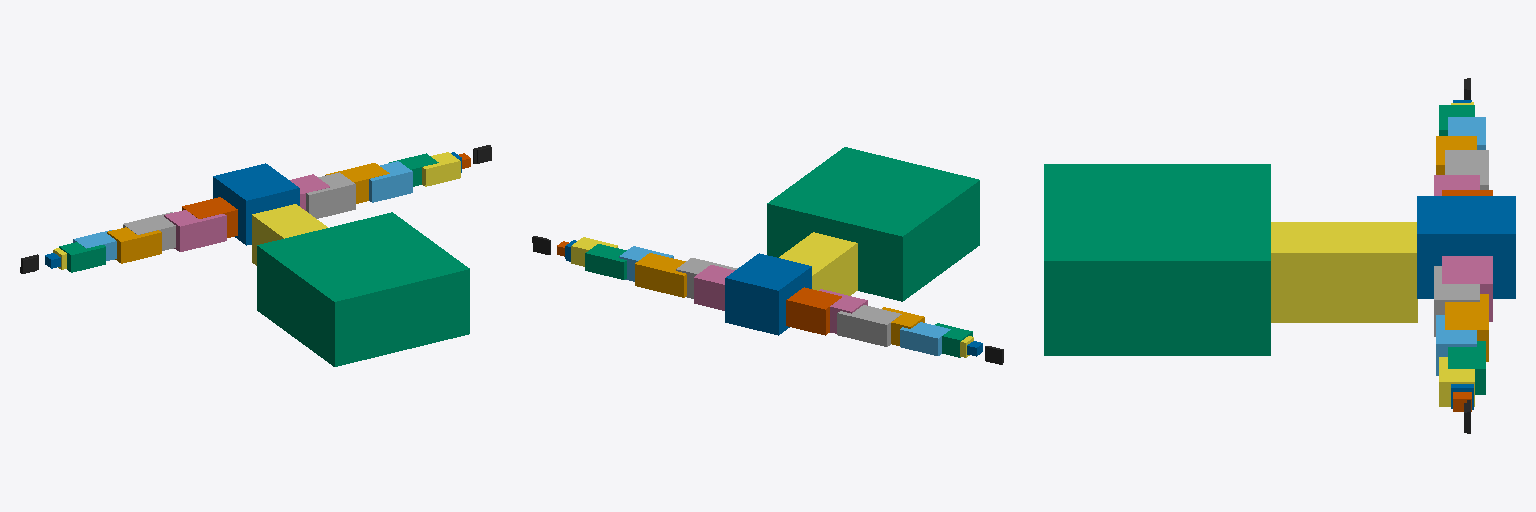
URDF robot description (Krang):
<?xml version="1.0" ?>
<!-- @file Krang.urdf -->
<!-- @author [author] -->
<!-- @date May 19, 2013 -->
<!-- @brief This file contains the .urdf definition for Krang with no dae files but only -->
<!-- bounding boxes for the dae files except the wheels (for fast loading in 05-fr). -->
<!-- TODO: Set the center of mass locations -->
<!-- TODO: Set the correct masses. Note that the dae models have the brackets divided in two and -->
<!-- connected to the middle motor for which we do not have measurements. -->
<!-- NOTE: The bounding box values are taken by finding the min and max values of the dae files. -->

<robot name="Krang">

	<!-- Links -->

	<link name = "LWheel"> 
    <inertial>
      <mass value="4.66"/>
      <inertia ixx="0.102019" ixy="2.45462e-05" ixz="0.00713022" iyy="0.0832724" iyz="-0.00131733" izz="0.086493"/>
      <origin xyz="0 0 0"/>
    </inertial>
		<visual> <geometry> <mesh filename="Base/oldwheel.dae" /> </geometry> </visual> 
		<collision> <geometry> <mesh filename="Base/oldwheel.dae" /> </geometry> </collision> 
	</link>

	<link name = "RWheel"> 
    <inertial>
      <mass value="4.66"/>
      <inertia ixx="0.102019" ixy="2.45462e-05" ixz="0.00713022" iyy="0.0832724" iyz="-0.00131733" izz="0.086493"/>
      <origin xyz="0 0 0"/>
    </inertial>
		<visual> <geometry> <mesh filename="Base/oldwheel.dae" /> </geometry> </visual> 
		<collision> <geometry> <mesh filename="Base/oldwheel.dae" /> </geometry> </collision> 
	</link>

	<link name = "Base"> 
    <inertial>
      <mass value="86.5"/>
      <inertia ixx="0.102019" ixy="2.45462e-05" ixz="0.00713022" iyy="0.0832724" iyz="-0.00131733" izz="0.086493"/>
      <origin xyz="0 0 0"/>
    </inertial>
		<visual> 
			<origin xyz="0.00225 0.2097395 0.006300"/>
      <geometry>
        <box size="0.7165 0.71048 0.32860"/>
      </geometry>
		</visual> 
		<collision> 
			<origin xyz="0.00225 0.2097395 0.006300"/>
      <geometry>
        <box size="0.7165 0.71048 0.32860"/>
      </geometry>
		</collision> 
	</link>

	<link name = "Spine"> 
    <inertial>
      <mass value="6.547"/>
      <inertia ixx="0.102019" ixy="2.45462e-05" ixz="0.00713022" iyy="0.0832724" iyz="-0.00131733" izz="0.086493"/>
      <origin xyz="0 0 0"/>
    </inertial>
		<visual> 
			<origin xyz="-0.026 0.230150 0.053887"/>
      <geometry>
        <box size="0.2340 0.59430 0.24097"/>
      </geometry>
		</visual> 
		<collision> 
			<origin xyz="-0.026 0.230150 0.053887"/>
      <geometry>
        <box size="0.2340 0.59430 0.24097"/>
      </geometry>
		</collision> 
	</link>

	<link name = "Bracket"> 
    <inertial>
      <mass value="3.11"/>
      <inertia ixx="0.102019" ixy="2.45462e-05" ixz="0.00713022" iyy="0.0832724" iyz="-0.00131733" izz="0.086493"/>
      <origin xyz="0 0 0"/>
    </inertial>
		<visual> <origin xyz="0.0012875 0.0971525 -0.0280530"/> <geometry> <box size="0.2815 0.30791 0.22611"/> </geometry> </visual> 
		<collision> <origin xyz="0.0012875 0.0971525 -0.0280530"/> <geometry> <box size="0.2815 0.30791 0.22611"/> </geometry> </collision> 
	</link>

	<link name = "L1"> 
    <inertial>
      <mass value="3.28"/>
      <inertia ixx="0.102019" ixy="2.45462e-05" ixz="0.00713022" iyy="0.0832724" iyz="-0.00131733" izz="0.086493"/>
      <origin xyz="0 0 0"/>
    </inertial>
		<visual> <origin xyz="0.015 -0.080866 0.0"/> <geometry> <box size="0.16 0.29367 0.13188"/> </geometry> </visual> 
		<collision> <origin xyz="0.015 -0.080866 0.0"/> <geometry> <box size="0.16 0.29367 0.13188"/> </geometry> </collision> 
	</link>

	<link name = "L2"> 
    <inertial>
      <mass value="3.76"/>
      <inertia ixx="0.102019" ixy="2.45462e-05" ixz="0.00713022" iyy="0.0832724" iyz="-0.00131733" izz="0.086493"/>
      <origin xyz="0 0 0"/>
    </inertial>
		<visual> <origin xyz="0.017042 -0.058309 0.0"/> <geometry> <box size="0.14591 0.24658 0.13"/> </geometry> </visual> 
		<collision> <origin xyz="0.017042 -0.058309 0.0"/> <geometry> <box size="0.14591 0.24658 0.13"/> </geometry> </collision> 
	</link>

	<link name = "L3"> 
    <inertial>
      <mass value="2.435"/>
      <inertia ixx="0.102019" ixy="2.45462e-05" ixz="0.00713022" iyy="0.0832724" iyz="-0.00131733" izz="0.086493"/>
      <origin xyz="0 0 0"/>
    </inertial>
		<visual> <origin xyz="0.014000 -0.075113 0.0"/> <geometry> <box size="0.13800 0.26217 0.11189"/> </geometry> </visual> 
		<collision> <origin xyz="0.014000 -0.075113 0.0"/> <geometry> <box size="0.13800 0.26217 0.11189"/> </geometry> </collision> 
	</link>

	<link name = "L4"> 
    <inertial>
      <mass value="2.356"/>
      <inertia ixx="0.102019" ixy="2.45462e-05" ixz="0.00713022" iyy="0.0832724" iyz="-0.00131733" izz="0.086493"/>
      <origin xyz="0 0 0"/>
    </inertial>
		<visual> <origin xyz="0.018200 -0.052050 0.0"/> <geometry> <box size="0.12960 0.2141 0.11"/> </geometry> </visual> 
		<collision> <origin xyz="0.018200 -0.052050 0.0"/> <geometry> <box size="0.12960 0.2141 0.11"/> </geometry> </collision> 
	</link>

	<link name = "L5"> 
    <inertial>
      <mass value="1.517"/>
      <inertia ixx="0.102019" ixy="2.45462e-05" ixz="0.00713022" iyy="0.0832724" iyz="-0.00131733" izz="0.086493"/>
      <origin xyz="0 0 0"/>
    </inertial>
		<visual> <origin xyz="0.0145115 -0.0571105 0.0000425"/> <geometry> <box size="0.117977 0.204179 0.089915"/> </geometry> </visual> 
		<collision> <origin xyz="0.0145115 -0.0571105 0.0000425"/> <geometry> <box size="0.117977 0.204179 0.089915"/> </geometry> </collision> 
	</link>

	<link name = "L6"> 
    <inertial>
      <mass value="1.428"/>
      <inertia ixx="0.102019" ixy="2.45462e-05" ixz="0.00713022" iyy="0.0832724" iyz="-0.00131733" izz="0.086493"/>
      <origin xyz="0 0 0"/>
    </inertial>
		<visual> <origin xyz="0.0175015 -0.0481615 0.0"/> <geometry> <box size="0.111977 0.185277 0.089"/> </geometry> </visual> 
		<collision> <origin xyz="0.0175015 -0.0481615 0.0"/> <geometry> <box size="0.111977 0.185277 0.089"/> </geometry> </collision> 
	</link>

	<link name = "LFT"> 
    <inertial>
      <mass value="1.206"/>
      <inertia ixx="0.102019" ixy="2.45462e-05" ixz="0.00713022" iyy="0.0832724" iyz="-0.00131733" izz="0.086493"/>
      <origin xyz="0 0 0"/>
    </inertial>
		<visual> <origin xyz="0.0 0.0111 0.0"/> <geometry> <box size="0.075 0.0462 0.075"/> </geometry> </visual> 
		<collision> <origin xyz="0.0 0.0111 0.0"/> <geometry> <box size="0.075 0.0462 0.075"/> </geometry> </collision> 
	</link>

	<link name = "lGripper">
		<visual> <origin xyz="0.0 0.0 0.0"/> <geometry> <box size="0.0616 0.0555 0.044"/> </geometry> </visual> 
		<collision> <origin xyz="0.0 0.0 0.0"/> <geometry> <box size="0.0616 0.0555 0.044"/> </geometry> </collision> 
	</link> 	

	<link name = "lgPlate1">
		<visual> <geometry> <mesh filename="Schunk/gripperPlate.dae" /> </geometry> </visual>
		<collision> <geometry> <mesh filename="Schunk/gripperPlate.dae" /> </geometry> </collision>
	</link> 	

	<link name = "R1"> 
    <inertial>
      <mass value="3.28"/>
      <inertia ixx="0.102019" ixy="2.45462e-05" ixz="0.00713022" iyy="0.0832724" iyz="-0.00131733" izz="0.086493"/>
      <origin xyz="0 0 0"/>
    </inertial>
		<visual> <origin xyz="0.015 -0.080866 0.0"/> <geometry> <box size="0.16 0.29367 0.13188"/> </geometry> </visual> 
		<collision> <origin xyz="0.015 -0.080866 0.0"/> <geometry> <box size="0.16 0.29367 0.13188"/> </geometry> </collision> 
	</link>

	<link name = "R2"> 
    <inertial>
      <mass value="3.76"/>
      <inertia ixx="0.102019" ixy="2.45462e-05" ixz="0.00713022" iyy="0.0832724" iyz="-0.00131733" izz="0.086493"/>
      <origin xyz="0 0 0"/>
    </inertial>
		<visual> <origin xyz="0.017042 -0.058309 0.0"/> <geometry> <box size="0.14591 0.24658 0.13"/> </geometry> </visual> 
		<collision> <origin xyz="0.017042 -0.058309 0.0"/> <geometry> <box size="0.14591 0.24658 0.13"/> </geometry> </collision> 
	</link>

	<link name = "R3"> 
    <inertial>
      <mass value="2.435"/>
      <inertia ixx="0.102019" ixy="2.45462e-05" ixz="0.00713022" iyy="0.0832724" iyz="-0.00131733" izz="0.086493"/>
      <origin xyz="0 0 0"/>
    </inertial>
		<visual> <origin xyz="0.014000 -0.075113 0.0"/> <geometry> <box size="0.13800 0.26217 0.11189"/> </geometry> </visual> 
		<collision> <origin xyz="0.014000 -0.075113 0.0"/> <geometry> <box size="0.13800 0.26217 0.11189"/> </geometry> </collision> 
	</link>

	<link name = "R4"> 
    <inertial>
      <mass value="2.356"/>
      <inertia ixx="0.102019" ixy="2.45462e-05" ixz="0.00713022" iyy="0.0832724" iyz="-0.00131733" izz="0.086493"/>
      <origin xyz="0 0 0"/>
    </inertial>
		<visual> <origin xyz="0.018200 -0.052050 0.0"/> <geometry> <box size="0.12960 0.2141 0.11"/> </geometry> </visual> 
		<collision> <origin xyz="0.018200 -0.052050 0.0"/> <geometry> <box size="0.12960 0.2141 0.11"/> </geometry> </collision> 
	</link>

	<link name = "R5"> 
    <inertial>
      <mass value="1.517"/>
      <inertia ixx="0.102019" ixy="2.45462e-05" ixz="0.00713022" iyy="0.0832724" iyz="-0.00131733" izz="0.086493"/>
      <origin xyz="0 0 0"/>
    </inertial>
		<visual> <origin xyz="0.0145115 -0.0571105 0.0000425"/> <geometry> <box size="0.117977 0.204179 0.089915"/> </geometry> </visual> 
		<collision> <origin xyz="0.0145115 -0.0571105 0.0000425"/> <geometry> <box size="0.117977 0.204179 0.089915"/> </geometry> </collision> 
	</link>

	<link name = "R6"> 
    <inertial>
      <mass value="1.428"/>
      <inertia ixx="0.102019" ixy="2.45462e-05" ixz="0.00713022" iyy="0.0832724" iyz="-0.00131733" izz="0.086493"/>
      <origin xyz="0 0 0"/>
    </inertial>
		<visual> <origin xyz="0.0175015 -0.0481615 0.0"/> <geometry> <box size="0.111977 0.185277 0.089"/> </geometry> </visual> 
		<collision> <origin xyz="0.0175015 -0.0481615 0.0"/> <geometry> <box size="0.111977 0.185277 0.089"/> </geometry> </collision> 
	</link>

	<link name = "RFT"> 
    <inertial>
      <mass value="1.206"/>
      <inertia ixx="0.102019" ixy="2.45462e-05" ixz="0.00713022" iyy="0.0832724" iyz="-0.00131733" izz="0.086493"/>
      <origin xyz="0 0 0"/>
    </inertial>
		<visual> <origin xyz="0.0 0.0111 0.0"/> <geometry> <box size="0.075 0.0462 0.075"/> </geometry> </visual> 
		<collision> <origin xyz="0.0 0.0111 0.0"/> <geometry> <box size="0.075 0.0462 0.075"/> </geometry> </collision> 
	</link>

	<link name = "rGripper">
		<visual> <origin xyz="0.0 0.0 0.0"/> <geometry> <box size="0.0616 0.0555 0.044"/> </geometry> </visual> 
		<collision> <origin xyz="0.0 0.0 0.0"/> <geometry> <box size="0.0616 0.0555 0.044"/> </geometry> </collision> 
	</link> 	


	<link name = "rgPlate1">
		<visual> <geometry> <mesh filename="Schunk/gripperPlate.dae" /> </geometry> </visual>
		<collision> <geometry> <mesh filename="Schunk/gripperPlate.dae" /> </geometry> </collision>
	</link> 	

	<!-- ======================================================================================================== -->
	<!-- ============================================ Joints ==================================================== -->
	<!-- ======================================================================================================== -->

	<joint name="JLWheel" type="revolute"> <parent link="Base" /> <child link="LWheel" />
		<origin xyz = "-0.354 0.0 0" rpy="0 0 0" />
		<axis xyz="1 0 0" /> <limit effort="1000" lower="-3.1416" upper="3.1416" velocity="0.1" />
	</joint>

	<joint name="JRWheel" type="revolute"> <parent link="Base" /> <child link="RWheel" />
		<origin xyz = "0.361 0.0 0" rpy="0 0 0" />
		<axis xyz="1 0 0" /> <limit effort="1000" lower="-3.1416" upper="3.1416" velocity="0.1" />
	</joint>

	<joint name="JWaist" type="revolute"> <parent link="Base" /> <child link="Spine" />
		<origin xyz = "0.026 0.499 -0.091" rpy="0 0 0" />
		<axis xyz="-1 0 0" /> <limit effort="1000" lower="0" upper="2.3" velocity="0.1" />
	</joint>

	<joint name="JTorso" type="revolute"> <parent link="Spine" /> <child link="Bracket" />
		<origin xyz = "-0.0285 0.584 0.1088" rpy="0 3.1416 0" />
		<axis xyz="0 -1 0" /> <limit effort="1000" lower="-0.8" upper="0.8" velocity="0.1" />
	</joint>

	<joint name="LJ1" type="revolute"> <parent link="Bracket" /> <child link="L1" />
		<origin xyz = "0.2823 0.0845 0" rpy="0 3.1416 -1.5708" />
		<axis xyz="0 -1 0" /> <limit effort="1000" lower="-3.1416" upper="3.1416" velocity="0.1" />
	</joint>

	<joint name="LJ2" type="revolute"> <parent link="L1" /> <child link="L2" />
		<origin xyz="0 0.0 0" rpy="3.14 3.14 0" />
		<axis xyz="-1 0 0" /> <limit effort="1000" lower="-2.094" upper="2.094" velocity="0.1" />
	</joint>

	<joint name="LJ3" type="revolute"> <parent link="L2" /> <child link="L3" />
		<origin xyz="0 -0.328 0" rpy="-3.1416 -3.1416 0" />
		<axis xyz="0 -1 0" /> <limit effort="1000" lower="-3.1416" upper="3.1416" velocity="0.1" />
	</joint>

	<joint name="LJ4" type="revolute"> <parent link="L3" /> <child link="L4" />
		<origin xyz="0 0 0" rpy="3.1416 3.1416 0" />
		<axis xyz="-1 0 0" /> <limit effort="1000" lower="-2.094" upper="2.094" velocity="0.1" />
	</joint>

	<joint name="LJ5" type="revolute"> <parent link="L4" /> <child link="L5" />
		<origin xyz="0 -0.2765 0" rpy="3.1416 3.1416 0" />
		<axis xyz="0 -1 0" /> <limit effort="1000" lower="-3.1416" upper="3.1416" velocity="0.1" />
	</joint>

	<joint name="LJ6" type="revolute"> <parent link="L5" /> <child link="L6" />
		<origin xyz="0 0 0" rpy="3.1416 3.1416 0" />
		<axis xyz="-1 0 0" /> <limit effort="1000" lower="-2.094" upper="2.094" velocity="0.1" />
	</joint>

	<!-- For some reason, I had to negate the axis to make sure the motor turns like the others -->
	<joint name="LJFT" type="revolute"> <parent link="L6" /> <child link="LFT" />
		<origin xyz="0 -0.159 0" rpy="0 0 0" />
		<axis xyz="0 1 0" /> <limit effort="1000" lower="-3.1416" upper="3.1416" velocity="0.1" />
	</joint>

	<joint name="LMotorGripper" type="fixed"> <parent link="LFT" /> <child link="lGripper" />
		<origin xyz="0.0 -0.035 0" rpy="3.1416 0 0" />
		<axis xyz="1 0 0" /> <limit effort="1000" lower="-2.094" upper="2.094" velocity="0.1" />
	</joint>

	<joint name="LMotorPlate1" type="revolute"> <parent link="lGripper" /> <child link="lgPlate1" />
		<origin xyz="-0.025 0.068 0.0" rpy="1.57 0.0 0" />
		<axis xyz="0 -1 0" /> <limit effort="1000" lower="0.0" upper="1.57" velocity="0.1" />
	</joint>

	<!-- Right arm -->

	<joint name="RJ1" type="revolute"> <parent link="Bracket" /> <child link="R1" />
		<origin xyz = "-0.2823 0.0845 0" rpy="0 0 1.5708" />
		<axis xyz="0 -1 0" /> <limit effort="1000" lower="-3.1416" upper="3.1416" velocity="0.1" />
	</joint>

	<joint name="RJ2" type="revolute"> <parent link="R1" /> <child link="R2" />
		<origin xyz="0 0.0 0" rpy="3.14 3.14 0" />
		<axis xyz="-1 0 0" /> <limit effort="1000" lower="-2.094" upper="2.094" velocity="0.1" />
	</joint>

	<joint name="RJ3" type="revolute"> <parent link="R2" /> <child link="R3" />
		<origin xyz="0 -0.328 0" rpy="-3.1416 -3.1416 0" />
		<axis xyz="0 -1 0" /> <limit effort="1000" lower="-3.1416" upper="3.1416" velocity="0.1" />
	</joint>

	<joint name="RJ4" type="revolute"> <parent link="R3" /> <child link="R4" />
		<origin xyz="0 0 0" rpy="3.1416 3.1416 0" />
		<axis xyz="-1 0 0" /> <limit effort="1000" lower="-2.094" upper="2.094" velocity="0.1" />
	</joint>

	<joint name="RJ5" type="revolute"> <parent link="R4" /> <child link="R5" />
		<origin xyz="0 -0.2765 0" rpy="3.1416 3.1416 0" />
		<axis xyz="0 -1 0" /> <limit effort="1000" lower="-3.1416" upper="3.1416" velocity="0.1" />
	</joint>

	<joint name="RJ6" type="revolute"> <parent link="R5" /> <child link="R6" />
		<origin xyz="0 0 0" rpy="3.1416 3.1416 0" />
		<axis xyz="-1 0 0" /> <limit effort="1000" lower="-2.094" upper="2.094" velocity="0.1" />
	</joint>

	<joint name="RJFT" type="revolute"> <parent link="R6" /> <child link="RFT" />
		<origin xyz="0 -0.159 0" rpy="0 0 0" />
		<axis xyz="0 1 0" /> <limit effort="1000" lower="-3.1416" upper="3.1416" velocity="0.1" />
	</joint>

	<joint name="RMotorGripper" type="fixed"> <parent link="RFT" /> <child link="rGripper" />
		<origin xyz="0 -0.035 0" rpy="3.1416 0 0" />
		<axis xyz="1 0 0" /> <limit effort="1000" lower="-2.094" upper="2.094" velocity="0.1" />
	</joint>

	<joint name="RMotorPlate1" type="revolute"> <parent link="rGripper" /> <child link="rgPlate1" />
		<origin xyz="-0.025 0.068 0.0" rpy="1.57 0.0 0" />
		<axis xyz="0 -1 0" /> <limit effort="1000" lower="0.0" upper="1.57" velocity="0.1" />
	</joint>

</robot>

--- What the picture shows (computed from the rendered views, not written in the file) ---
Views: 3 orthographic renders of the robot side by side, from view 1: azimuth 30°, elevation 25°; view 2: azimuth 150°, elevation 25°; view 3: azimuth 270°, elevation 25°.
Robot: Krang — 23 links, 22 joints (20 revolute, 2 fixed); root link Base; default pose: all joints at 0.
Visible links, largest first — view 1: Base, Bracket, Spine, L2, R2, L4, R4, L1, L6, R6, L3, R3 (+3 smaller); view 2: Base, Bracket, Spine, L1, L3, R3, R1, L5, R5, L2, L6, R2 (+3 smaller); view 3: Base, Spine, Bracket, R1, R3, L3, R5, R2, R4, R6, L5, L4 (+2 smaller).
Boxes of the visible links, x1,y1,x2,y2 form: Base: (257, 212, 469, 366); Bracket: (213, 163, 299, 245); Spine: (252, 204, 327, 265); L2: (164, 210, 226, 251); R2: (306, 172, 355, 218); L4: (107, 227, 161, 263); R4: (369, 161, 412, 202); L1: (182, 197, 237, 237); L6: (59, 242, 105, 272); R6: (422, 152, 460, 186); L3: (123, 212, 175, 250); R3: (325, 163, 389, 203); Base: (767, 147, 979, 301); Bracket: (725, 253, 811, 335); Spine: (779, 232, 857, 295); L1: (786, 287, 841, 335); L3: (837, 305, 901, 346); R3: (635, 253, 686, 297); R1: (694, 265, 734, 310); L5: (900, 322, 950, 355); R5: (585, 244, 626, 279); L2: (819, 289, 867, 333); L6: (935, 323, 972, 357); R2: (676, 258, 737, 298); Base: (1044, 164, 1270, 355); Spine: (1271, 222, 1417, 322); Bracket: (1417, 196, 1515, 298); R1: (1442, 256, 1492, 321); R3: (1445, 294, 1488, 361); L3: (1445, 150, 1488, 189); R5: (1448, 341, 1485, 394); R2: (1434, 266, 1479, 336); R4: (1436, 315, 1476, 375); R6: (1439, 357, 1474, 406); L5: (1448, 117, 1485, 149); L4: (1436, 136, 1476, 174).
Size in the robot's own frame: 2.48 by 1.48 by 0.3286 metres.
2 mesh visuals loaded from 2 distinct referenced files (1 Collada DAE); not drawn: 2 (reference not matched to a file when rendering).